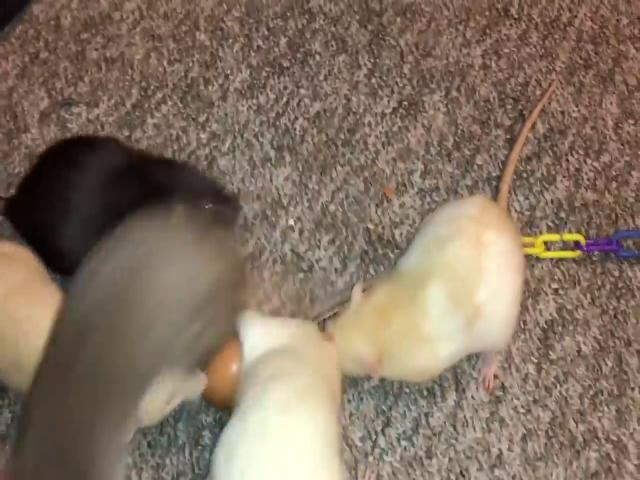Tikus: (328, 76, 553, 387)
